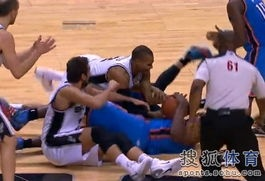falling: (111, 43, 210, 116)
